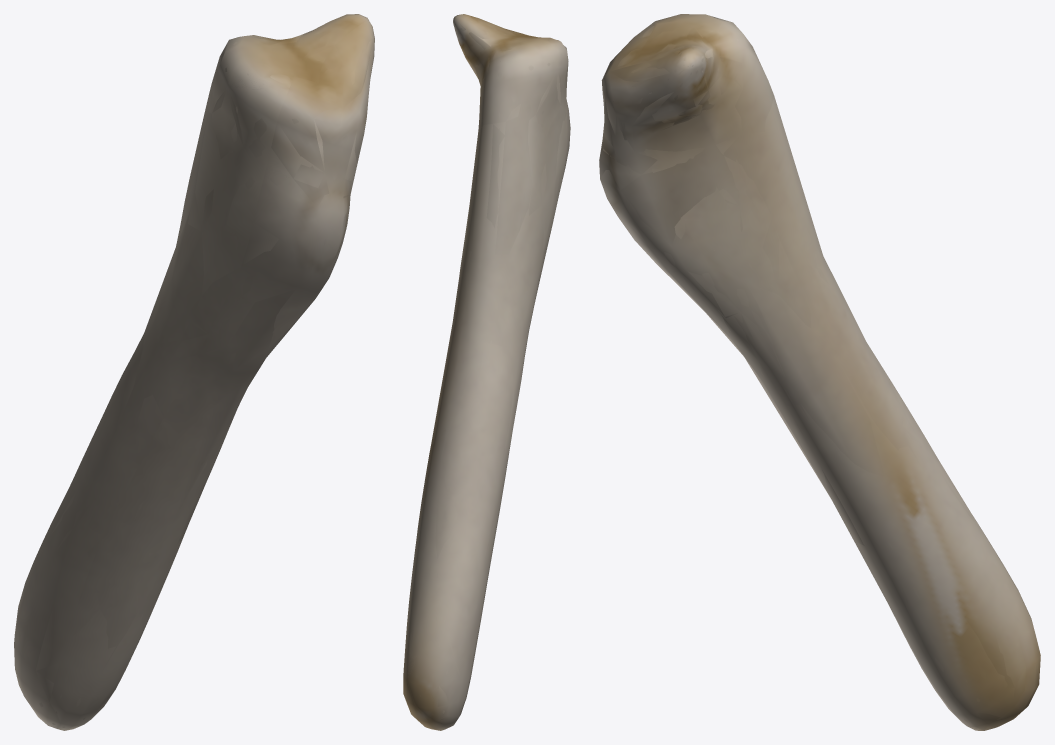
File: L Tibia.fbx
3 views of the same model, side by side, from view 1: azimuth 30°, elevation 25°; view 2: azimuth 150°, elevation 25°; view 3: azimuth 270°, elevation 25° (orthographic). The views are drawn at different scales.
Parts seen in each view (by area): view 1: L Tibia, L Tibia low, L Tibia high; view 2: L Tibia, L Tibia low, L Tibia high; view 3: L Tibia, L Tibia low, L Tibia high.
Boxes of the visible parts, x1,y1,x2,y2 form: L Tibia: (14,14,374,730); L Tibia low: (18,14,373,730); L Tibia high: (16,17,373,727); L Tibia: (403,14,570,730); L Tibia low: (404,14,569,729); L Tibia high: (404,15,567,728); L Tibia: (599,14,1040,730); L Tibia low: (600,14,1038,730); L Tibia high: (603,18,1034,729).
Size of the model in its own units: 3.57 by 15.09 by 8.22.
